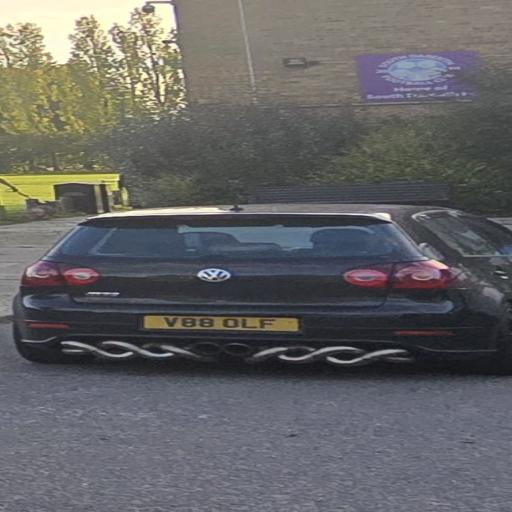numberplates: (144, 316, 300, 331)
